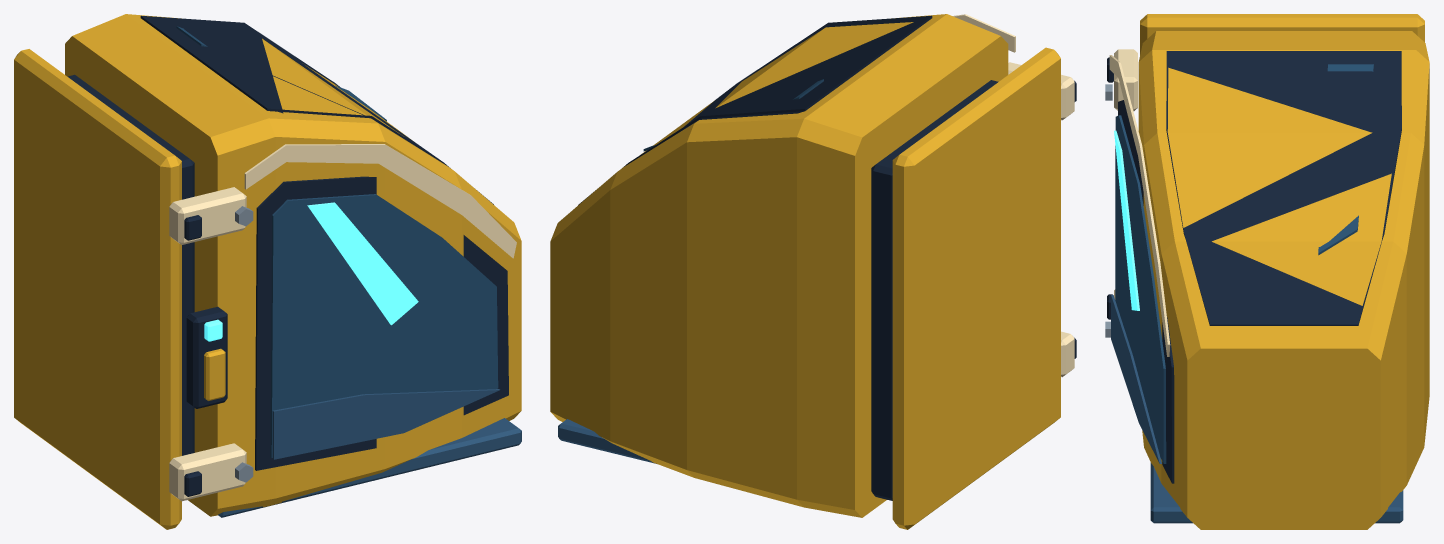
Rendered from separator.glb.
3 views of the same model, side by side, from view 1: azimuth 30°, elevation 25°; view 2: azimuth 150°, elevation 25°; view 3: azimuth 270°, elevation 25° (orthographic). The views are drawn at different scales.
Visible parts, largest first — view 1: separator__CourierYellow, separator__GlassBlue, separator__InkNavy, separator__Cobalt, separator__Cream, separator__CyanGlow, separator__Metal; view 2: separator__CourierYellow, separator__InkNavy, separator__Cream, separator__Cobalt; view 3: separator__CourierYellow, separator__InkNavy, separator__GlassBlue, separator__Cobalt, separator__Cream, separator__CyanGlow.
Boxes of the visible parts, <box> form: separator__CourierYellow: <box>14,14,521,529</box>; separator__GlassBlue: <box>176,26,498,457</box>; separator__InkNavy: <box>67,15,508,496</box>; separator__Cobalt: <box>218,389,521,517</box>; separator__Cream: <box>169,144,516,501</box>; separator__CyanGlow: <box>204,202,418,341</box>; separator__Metal: <box>235,206,253,482</box>; separator__CourierYellow: <box>550,14,1060,529</box>; separator__InkNavy: <box>578,15,1076,500</box>; separator__Cream: <box>952,14,1074,377</box>; separator__Cobalt: <box>558,419,656,463</box>; separator__CourierYellow: <box>1138,14,1429,529</box>; separator__InkNavy: <box>1107,51,1401,483</box>; separator__GlassBlue: <box>1115,64,1373,463</box>; separator__Cobalt: <box>1111,295,1403,523</box>; separator__Cream: <box>1109,49,1170,356</box>; separator__CyanGlow: <box>1114,130,1139,310</box>.
Size of the model in its own units: 1.01 by 0.9835 by 0.798.
